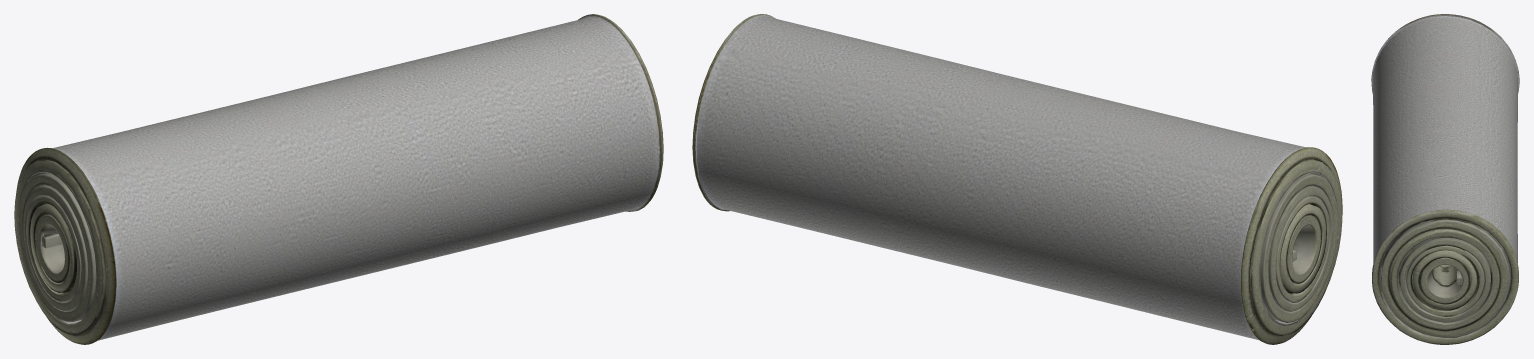
Rendered from tripo_convert_1027d2bc-e4b0-4c8d-a79a-b2365d82299f.glb.
3 renders of one model, left to right at view 1: azimuth 30°, elevation 25°; view 2: azimuth 150°, elevation 25°; view 3: azimuth 270°, elevation 25°, orthographic. The views are drawn at different scales.
Parts seen in each view (by area): view 1: tripo_node_1027d2bc-e4b0-4c8d-a79a-b2365d82299f; view 2: tripo_node_1027d2bc-e4b0-4c8d-a79a-b2365d82299f; view 3: tripo_node_1027d2bc-e4b0-4c8d-a79a-b2365d82299f.
Boxes of the visible parts, x1,y1,x2,y2 form: tripo_node_1027d2bc-e4b0-4c8d-a79a-b2365d82299f: (14, 14, 663, 344); tripo_node_1027d2bc-e4b0-4c8d-a79a-b2365d82299f: (692, 14, 1342, 344); tripo_node_1027d2bc-e4b0-4c8d-a79a-b2365d82299f: (1371, 14, 1519, 344).
Size of the model in its own units: 0.9995 by 0.3062 by 0.3052.
1 material, 1 textured.
